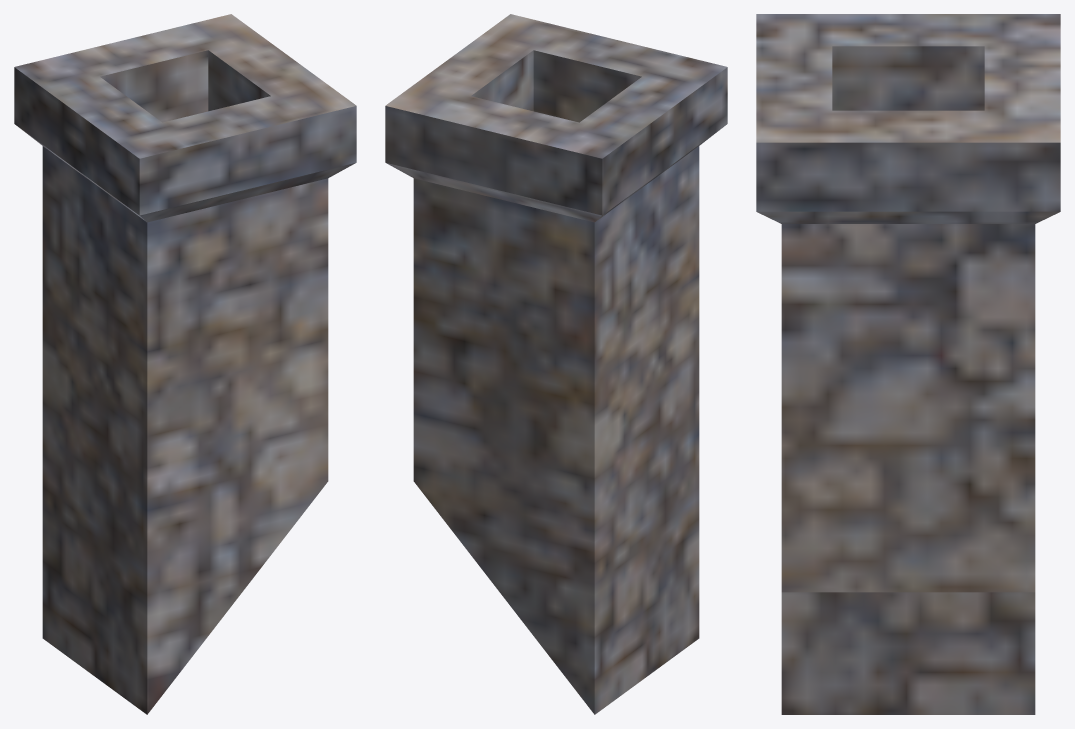
The model's file is MS_Chimney_1.fbx.
The picture shows the model from 3 angles, left to right: view 1: azimuth 30°, elevation 25°; view 2: azimuth 150°, elevation 25°; view 3: azimuth 270°, elevation 25°; orthographic projection. The views are drawn at different scales.
Visible parts, largest first — view 1: MSH_Chimney_01; view 2: MSH_Chimney_01; view 3: MSH_Chimney_01.
Boxes of the visible parts, x1,y1,x2,y2 form: MSH_Chimney_01: [14, 14, 356, 714]; MSH_Chimney_01: [385, 14, 727, 714]; MSH_Chimney_01: [756, 14, 1060, 714].
Bounding box in the file's own units: 60 × 150 × 60.
